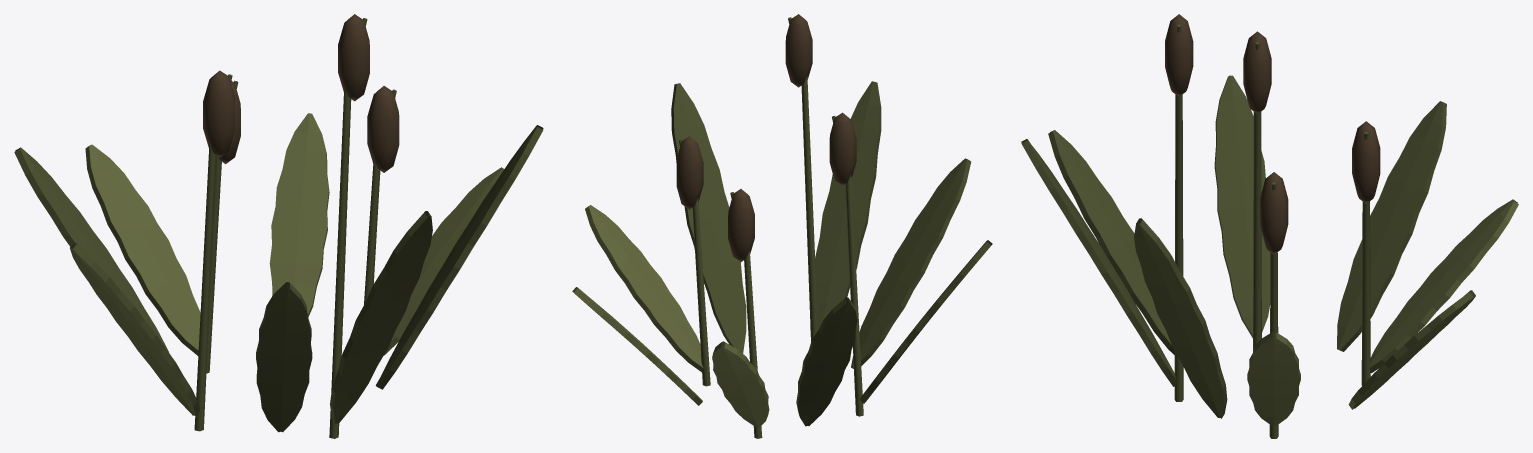
3 views of the same model, side by side, from view 1: azimuth 30°, elevation 25°; view 2: azimuth 150°, elevation 25°; view 3: azimuth 270°, elevation 25° (orthographic). The views are drawn at different scales.
Visible parts, largest first — view 1: Bent strap leaf.006, Bent strap leaf.003, Bent strap leaf.002, Bent strap leaf.007, Bent strap leaf.005, Bent strap leaf.004, Bent strap leaf.001, Bent strap leaf, Reed stem.001, Reed stem.002, Dry seed head, Dry seed head.002 (+4 smaller); view 2: Bent strap leaf.005, Bent strap leaf.002, Bent strap leaf.007, Bent strap leaf, Bent strap leaf.001, Bent strap leaf.006, Reed stem.001, Reed stem.002, Dry seed head, Dry seed head.002, Dry seed head.001, Dry seed head.003 (+4 smaller); view 3: Bent strap leaf.001, Bent strap leaf.004, Bent strap leaf.005, Bent strap leaf.007, Bent strap leaf.006, Bent strap leaf, Bent strap leaf.002, Bent strap leaf.003, Reed stem.002, Reed stem.001, Dry seed head.002, Dry seed head.003 (+4 smaller).
Boxes of the visible parts, left/top/right/bottom form: Bent strap leaf.006: left=85, top=144, right=200, bottom=355; Bent strap leaf.003: left=269, top=113, right=329, bottom=317; Bent strap leaf.002: left=330, top=211, right=432, bottom=423; Bent strap leaf.007: left=256, top=282, right=312, bottom=432; Bent strap leaf.005: left=375, top=125, right=543, bottom=389; Bent strap leaf.004: left=70, top=242, right=199, bottom=416; Bent strap leaf.001: left=14, top=147, right=168, bottom=352; Bent strap leaf: left=384, top=167, right=504, bottom=355; Reed stem.001: left=329, top=18, right=367, bottom=438; Reed stem.002: left=194, top=74, right=232, bottom=431; Dry seed head: left=367, top=86, right=399, bottom=172; Dry seed head.002: left=203, top=70, right=234, bottom=157; Bent strap leaf.005: left=671, top=83, right=746, bottom=353; Bent strap leaf.002: left=810, top=81, right=881, bottom=329; Bent strap leaf.007: left=851, top=158, right=971, bottom=368; Bent strap leaf: left=585, top=205, right=703, bottom=372; Bent strap leaf.001: left=796, top=297, right=857, bottom=426; Bent strap leaf.006: left=712, top=341, right=769, bottom=427; Reed stem.001: left=788, top=17, right=818, bottom=341; Reed stem.002: left=832, top=116, right=863, bottom=416; Dry seed head: left=676, top=136, right=703, bottom=209; Dry seed head.002: left=829, top=112, right=856, bottom=185; Dry seed head.001: left=785, top=14, right=812, bottom=87; Dry seed head.003: left=728, top=189, right=754, bottom=261; Bent strap leaf.001: left=1337, top=101, right=1446, bottom=351; Bent strap leaf.004: left=1214, top=75, right=1270, bottom=337; Bent strap leaf.005: left=1134, top=218, right=1227, bottom=418; Bent strap leaf.007: left=1048, top=130, right=1174, bottom=354; Bent strap leaf.006: left=1369, top=199, right=1518, bottom=373; Bent strap leaf: left=1247, top=331, right=1300, bottom=425; Bent strap leaf.002: left=1021, top=139, right=1176, bottom=386; Bent strap leaf.003: left=1348, top=290, right=1475, bottom=409; Reed stem.002: left=1253, top=41, right=1261, bottom=351; Reed stem.001: left=1174, top=24, right=1183, bottom=401; Dry seed head.002: left=1243, top=31, right=1271, bottom=113; Dry seed head.003: left=1352, top=121, right=1380, bottom=203.
Size of the model in its own units: 2.64 by 2.29 by 2.61.
